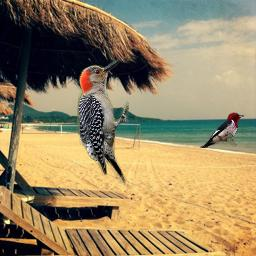Woodpecker: (73, 57, 129, 192), (199, 112, 246, 148)
